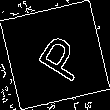P_NW: (24, 26, 86, 84)
